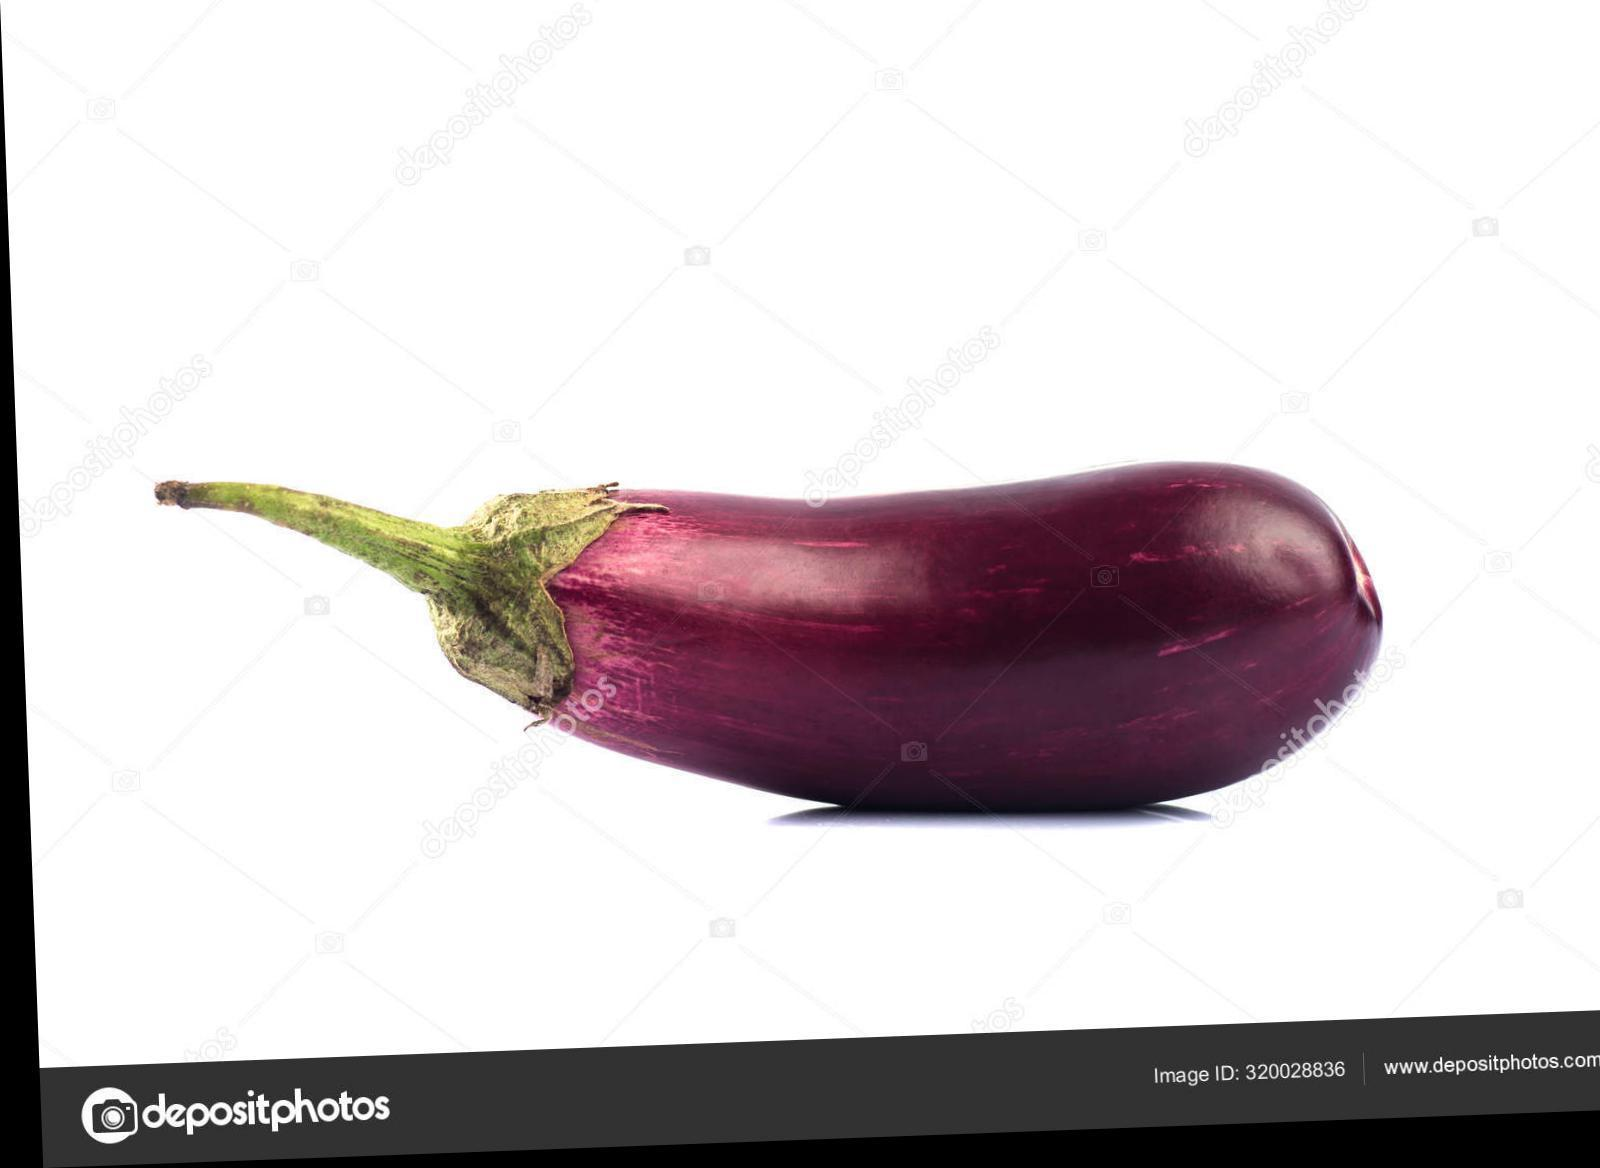eggplant: (128, 411, 1417, 890)
